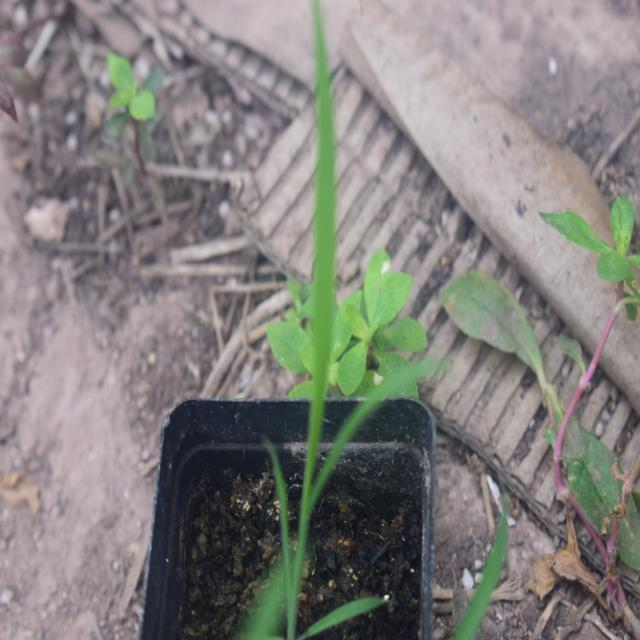crabgrass: (248, 4, 430, 570)
